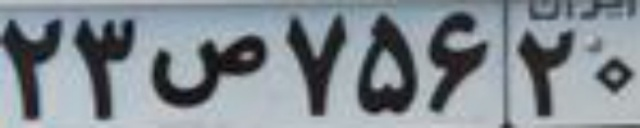0: (591, 56, 633, 92)
2: (1, 17, 61, 118), (513, 24, 576, 115)
3: (72, 16, 133, 119)
5: (359, 14, 415, 114)
6: (425, 11, 488, 111)
7: (282, 13, 350, 116)
saat: (153, 34, 268, 107)
